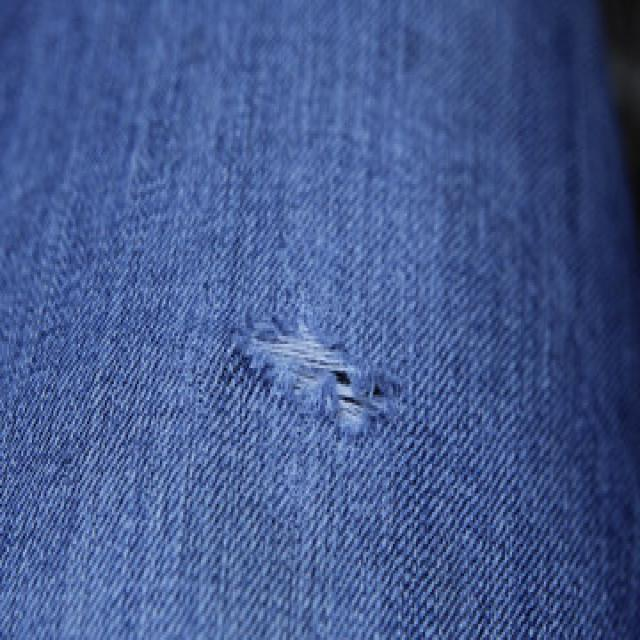Hole: (236, 316, 401, 436)
